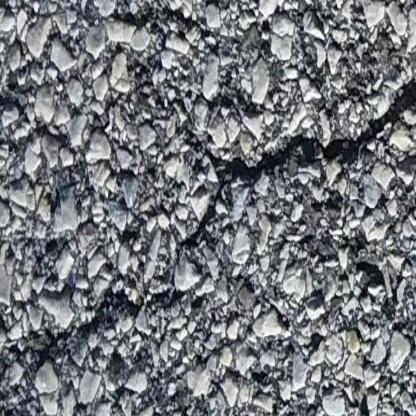Cracks: (178, 75, 416, 252), (0, 83, 277, 164), (0, 285, 195, 388), (113, 0, 220, 54)
